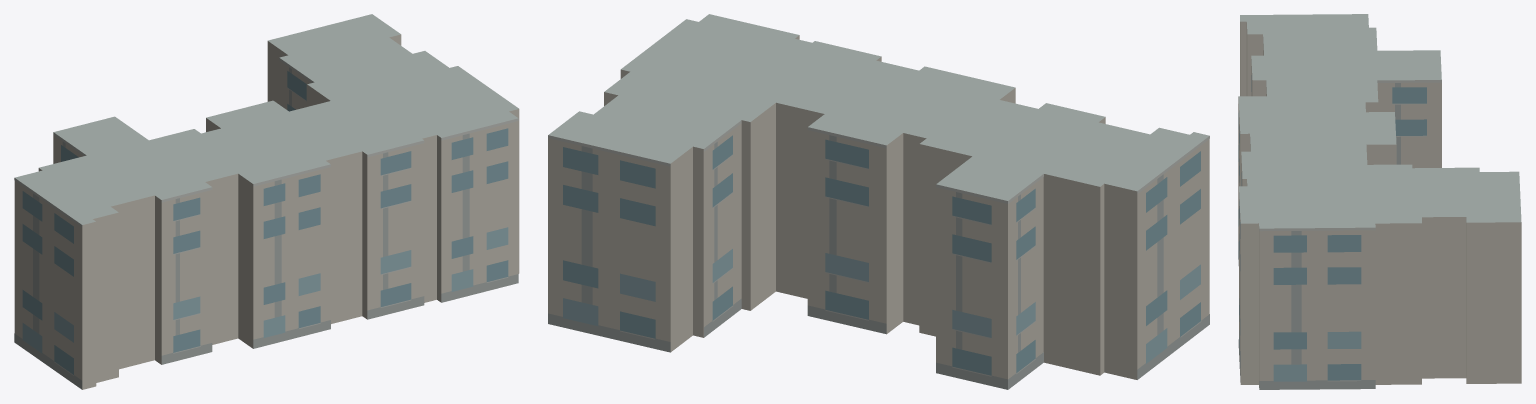
The model's file is residential-6420f907-2c15-46cc-a6ac-d31ca5be342f.glb.
3 views of the same model, side by side, from view 1: azimuth 30°, elevation 25°; view 2: azimuth 150°, elevation 25°; view 3: azimuth 270°, elevation 25° (orthographic). The views are drawn at different scales.
Visible parts, largest first — view 1: residential-6420f907-2c15-46cc-a6ac-d31ca5be342f.tmp; view 2: residential-6420f907-2c15-46cc-a6ac-d31ca5be342f.tmp; view 3: residential-6420f907-2c15-46cc-a6ac-d31ca5be342f.tmp.
Part boxes in pixels (left/top/right/bottom): residential-6420f907-2c15-46cc-a6ac-d31ca5be342f.tmp: left=14, top=14, right=519, bottom=389; residential-6420f907-2c15-46cc-a6ac-d31ca5be342f.tmp: left=548, top=14, right=1209, bottom=389; residential-6420f907-2c15-46cc-a6ac-d31ca5be342f.tmp: left=1238, top=14, right=1521, bottom=389.
Bounding box in the file's own units: 43.51 × 15.25 × 24.26.
